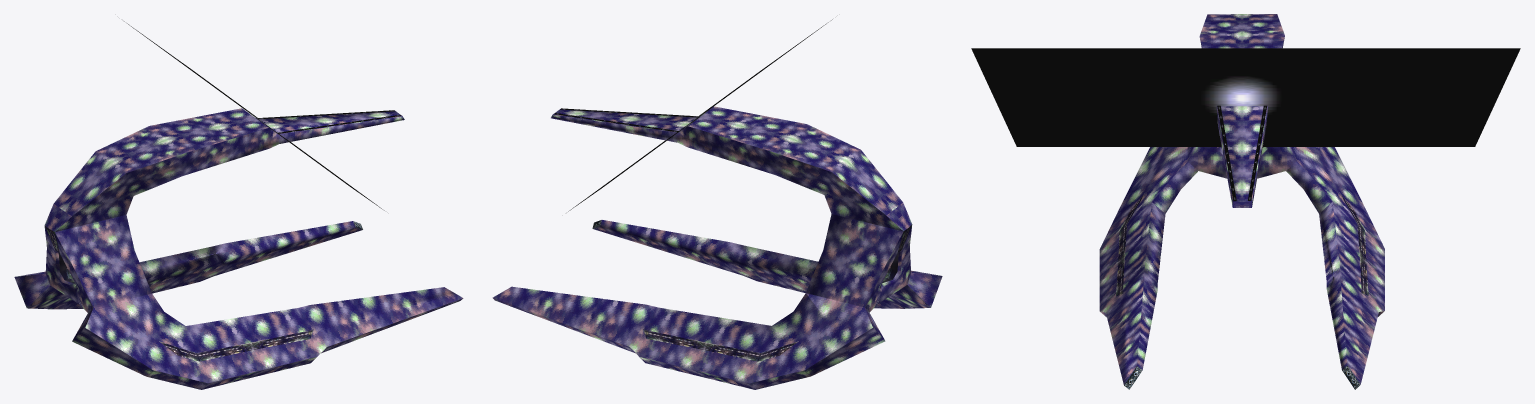
File: scv01.obj
3 renders of one model, left to right at view 1: azimuth 30°, elevation 25°; view 2: azimuth 150°, elevation 25°; view 3: azimuth 270°, elevation 25°, orthographic. The views are drawn at different scales.
Parts seen in each view (by area): view 1: SCV01C0, SCV01D0, SCV01E0, SCV01B0, SCV01F0, GLOW0; view 2: SCV01B0, SCV01D0, SCV01E0, SCV01C0, SCV01F0, GLOW0; view 3: GLOW0, SCV01C0, SCV01B0, SCV01D0, SCV01E0, SCV01F0.
Boxes of the visible parts, x1,y1,x2,y2 form: SCV01C0: (72, 287, 463, 389); SCV01D0: (44, 108, 404, 231); SCV01E0: (44, 215, 151, 312); SCV01B0: (14, 221, 362, 309); SCV01F0: (257, 110, 401, 133); GLOW0: (124, 21, 384, 210); SCV01B0: (492, 286, 885, 389); SCV01D0: (551, 106, 911, 231); SCV01E0: (806, 214, 912, 312); SCV01C0: (592, 220, 942, 308); SCV01F0: (554, 108, 698, 131); GLOW0: (568, 19, 832, 211); GLOW0: (971, 48, 1520, 146); SCV01C0: (1099, 147, 1197, 389); SCV01B0: (1286, 147, 1384, 389); SCV01D0: (1199, 14, 1284, 207); SCV01E0: (1187, 147, 1296, 178); SCV01F0: (1217, 105, 1266, 200).
Size of the model in its own units: 4260 by 2534 by 4802.
Materials: 14 (13 with a texture image).
